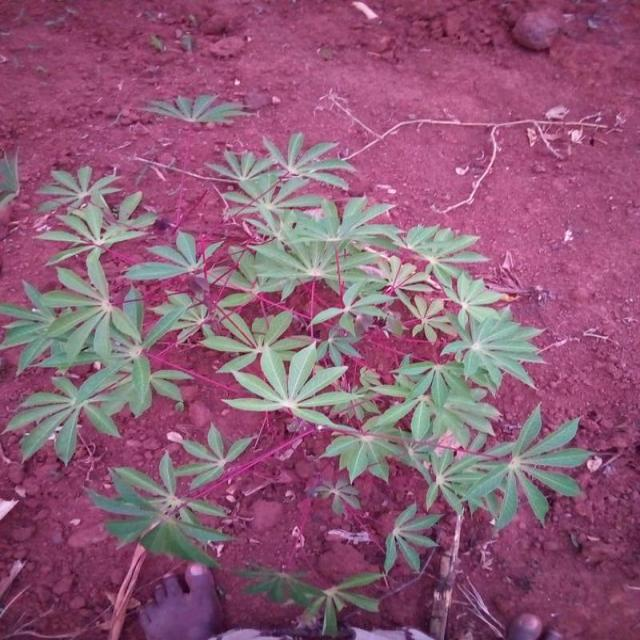cassava leaf: (1, 103, 593, 630)
